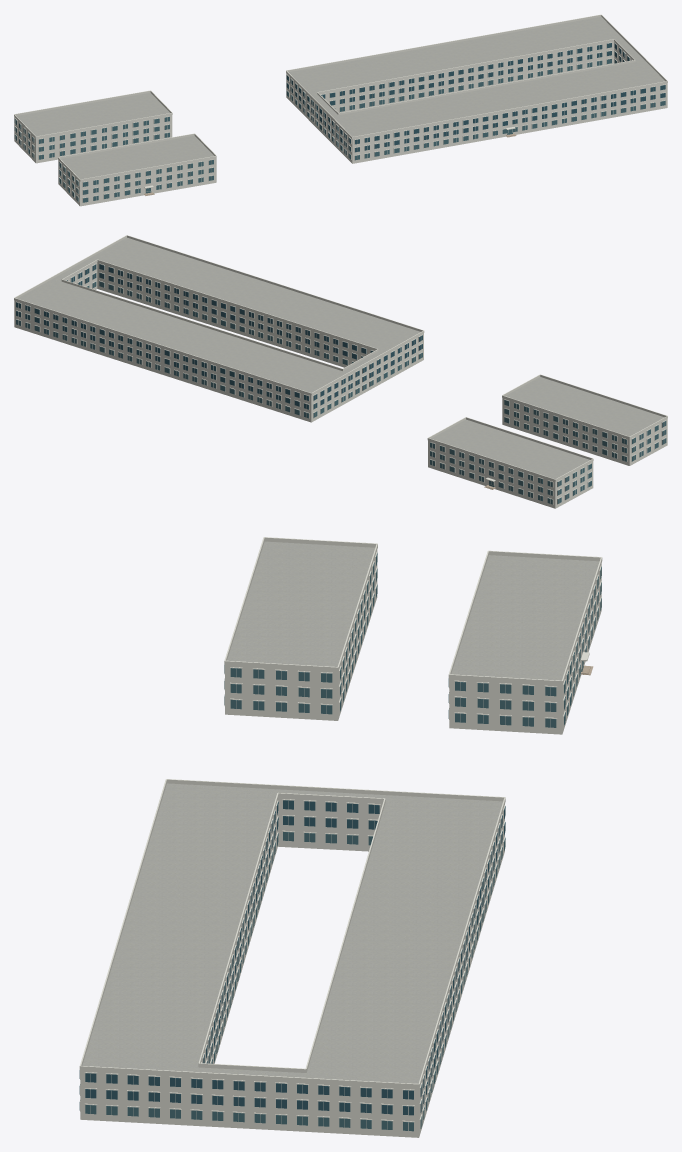
Rendered from chunk-p0-p2.glb.
3 views of the same model, one above another, from view 1: azimuth 30°, elevation 25°; view 2: azimuth 150°, elevation 25°; view 3: azimuth 270°, elevation 25° (orthographic). The views are drawn at different scales.
Visible parts, largest first — view 1: chunk-p0-p2; view 2: chunk-p0-p2; view 3: chunk-p0-p2.
Part boxes in pixels (x1,y1,x2,y2): chunk-p0-p2: [14, 14, 667, 206]; chunk-p0-p2: [14, 235, 667, 508]; chunk-p0-p2: [79, 537, 602, 1137].
Size of the model in its own units: 245 by 11.6 by 98.71.
Materials: 5 (2 with a texture image).
